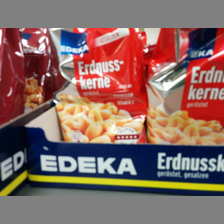nuts: (49, 27, 146, 144), (146, 28, 224, 145)
